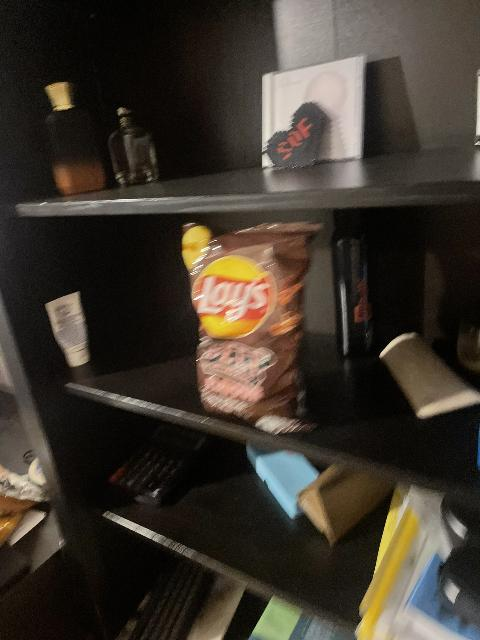Lays Beef Grilled Ribs 125g: (184, 221, 321, 433)
